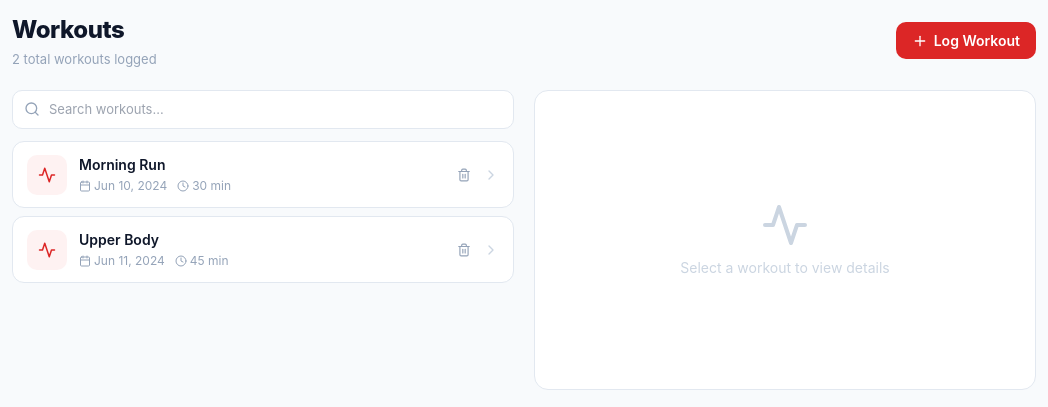
Scenario: Workouts Page › filters workouts by search
The image size is (1048, 407).
Expected: the text "Morning Run" is shown, left=79, top=156, right=166, bottom=173
Type "Upper" into the field with placeholder "Search workouts…" at (263, 109), box left=12, top=90, right=514, bottom=129
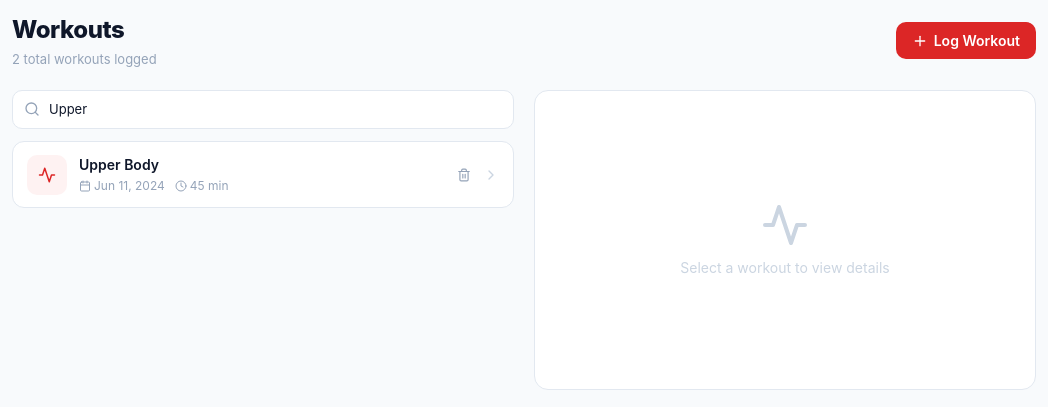
Expected: the text "Upper Body" is shown, left=79, top=156, right=159, bottom=173
Result: the text "Morning Run" is gone
